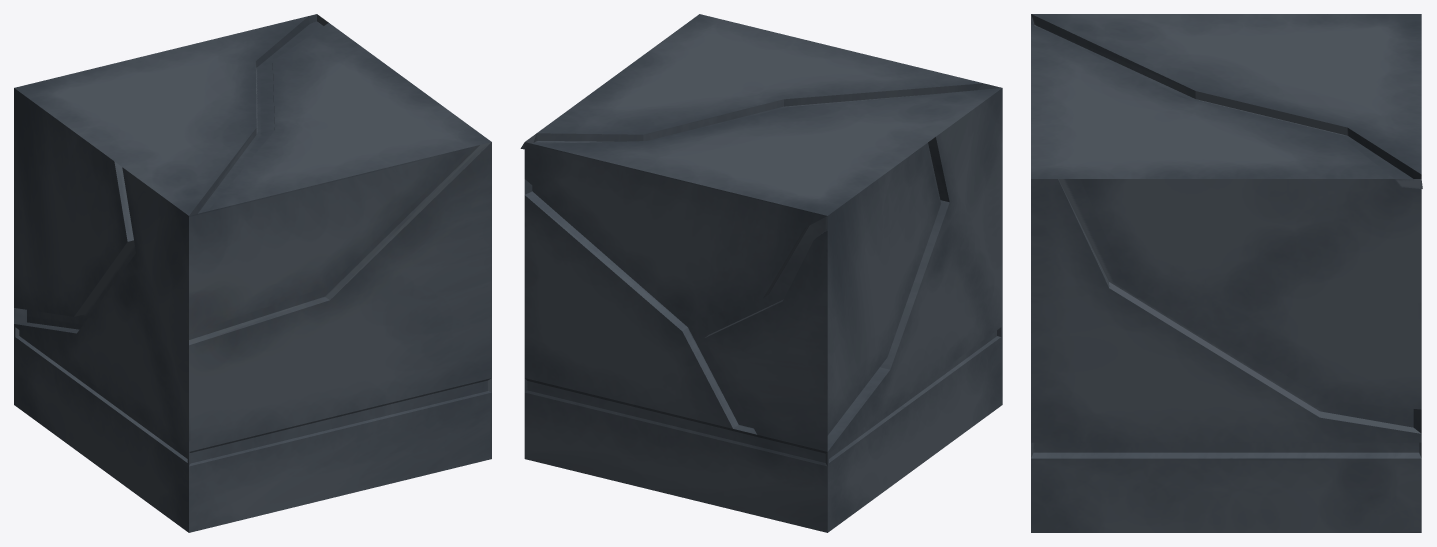
The model's file is NormalWall.fbx.
3 renders of one model, left to right at view 1: azimuth 30°, elevation 25°; view 2: azimuth 150°, elevation 25°; view 3: azimuth 270°, elevation 25°, orthographic. The views are drawn at different scales.
Visible parts, largest first — view 1: NewNormalWall; view 2: NewNormalWall; view 3: NewNormalWall.
Boxes of the visible parts, left/top/right/bottom form: NewNormalWall: left=14, top=14, right=491, bottom=532; NewNormalWall: left=520, top=14, right=1002, bottom=532; NewNormalWall: left=1031, top=14, right=1422, bottom=532.
Bounding box in the file's own units: 99.23 × 98.03 × 98.34.
